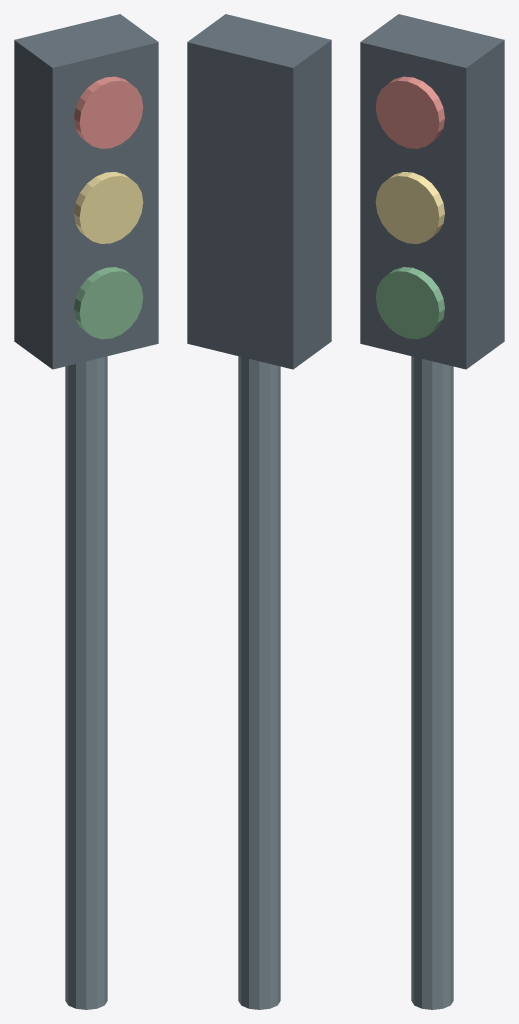
File: traffic_light.glb
3 views of the same model, side by side, from view 1: azimuth 30°, elevation 25°; view 2: azimuth 150°, elevation 25°; view 3: azimuth 330°, elevation 25° (orthographic).
Visible parts, largest first — view 1: traffic_light_001, traffic_light_000, traffic_light_002, traffic_light_004, traffic_light_003; view 2: traffic_light_001, traffic_light_000; view 3: traffic_light_001, traffic_light_000, traffic_light_002, traffic_light_004, traffic_light_003.
Boxes of the visible parts, x1,y1,x2,y2 form: traffic_light_001: (14,14,158,369); traffic_light_000: (65,356,107,1009); traffic_light_002: (74,267,143,339); traffic_light_004: (74,76,143,148); traffic_light_003: (74,172,143,243); traffic_light_001: (187,14,331,369); traffic_light_000: (238,356,280,1009); traffic_light_001: (360,14,504,369); traffic_light_000: (411,356,453,1009); traffic_light_002: (375,267,444,339); traffic_light_004: (375,76,444,148); traffic_light_003: (375,172,444,243).
Bounding box in the file's own units: 0.35 × 3.02 × 0.2525.
